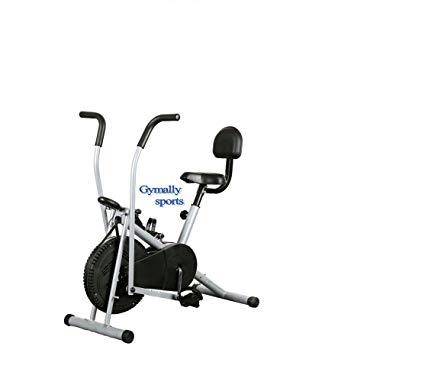gym_bike: (59, 103, 270, 358)
